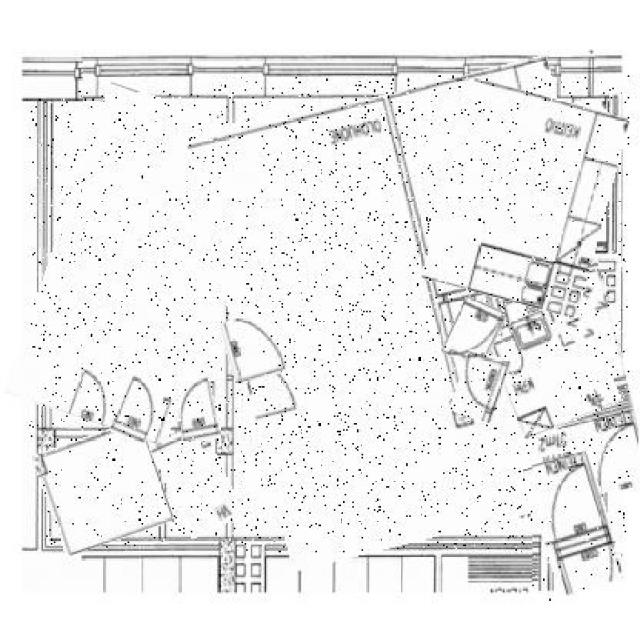door: (532, 455, 618, 603), (223, 313, 283, 382), (446, 299, 500, 366), (454, 352, 506, 420), (114, 377, 161, 441), (176, 374, 218, 443)
zone: (212, 75, 630, 552), (29, 91, 248, 437), (434, 86, 617, 311), (39, 426, 168, 548), (491, 303, 612, 432), (158, 428, 234, 535)
